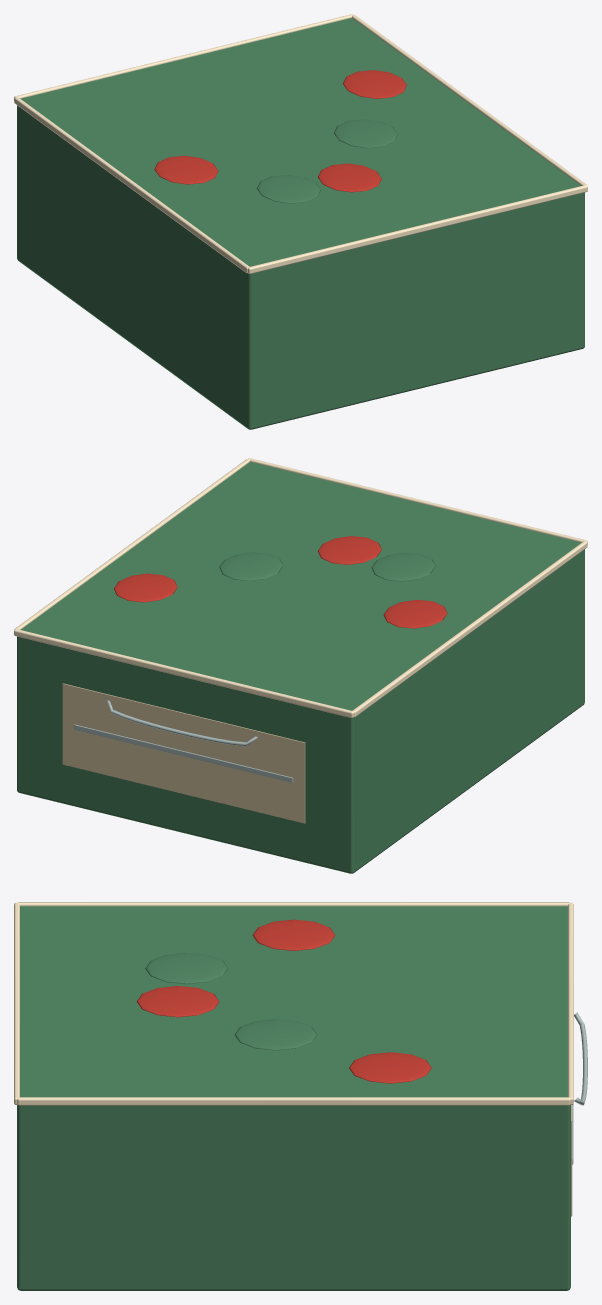
File: fridge-vegetable-bin-light.glb
The picture shows the model from 3 angles, top to bottom: view 1: azimuth 30°, elevation 25°; view 2: azimuth 150°, elevation 25°; view 3: azimuth 270°, elevation 25°; orthographic projection. The views are drawn at different scales.
Parts seen in each view (by area): view 1: green, ivory, red; view 2: green, cream, ivory, red, steel; view 3: green, ivory, red, steel.
Part boxes in pixels (left/top/right/bottom): green: left=17, top=18, right=584, bottom=429; ivory: left=14, top=14, right=587, bottom=273; red: left=154, top=70, right=406, bottom=192; green: left=17, top=462, right=584, bottom=873; cream: left=62, top=683, right=305, bottom=823; ivory: left=14, top=458, right=587, bottom=717; red: left=113, top=536, right=447, bottom=628; steel: left=74, top=700, right=293, bottom=782; green: left=17, top=906, right=570, bottom=1290; ivory: left=14, top=902, right=573, bottom=1105; red: left=136, top=919, right=431, bottom=1083; steel: left=572, top=1012, right=587, bottom=1164.
Size of the model in its own units: 10.13 by 4.67 by 12.43.
